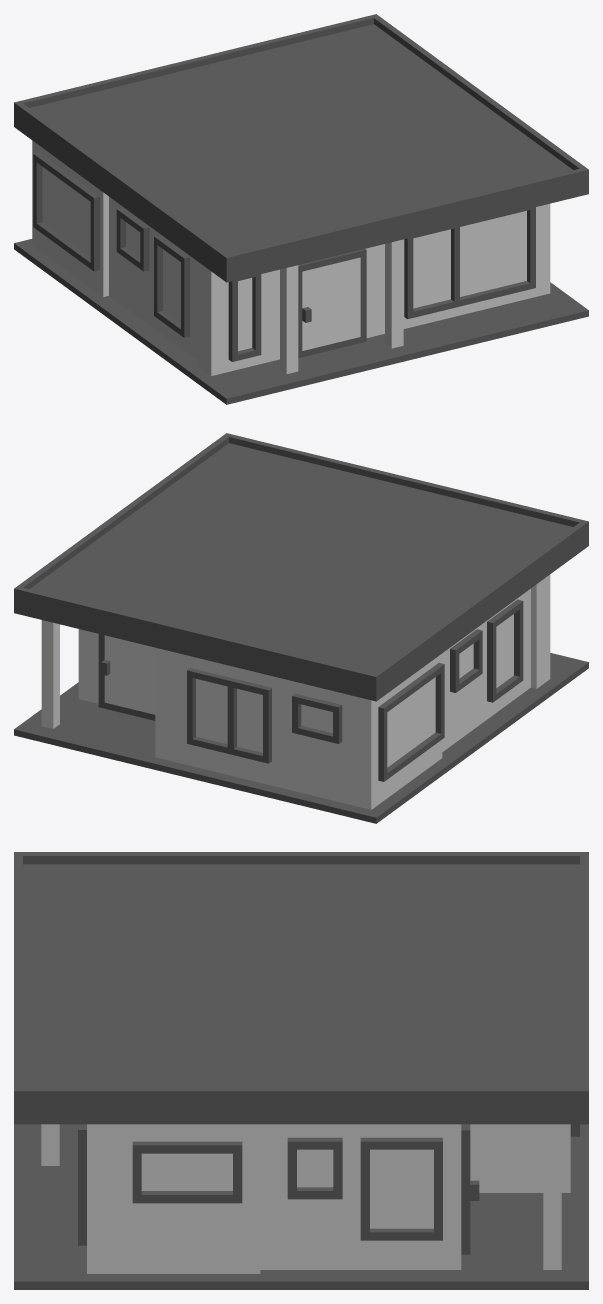
Rendered from bld_house1c.obj.
The picture shows the model from 3 angles, top to bottom: view 1: azimuth 30°, elevation 25°; view 2: azimuth 150°, elevation 25°; view 3: azimuth 270°, elevation 25°; orthographic projection. The views are drawn at different scales.
Bounding box in the file's own units: 62 × 24 × 63.
